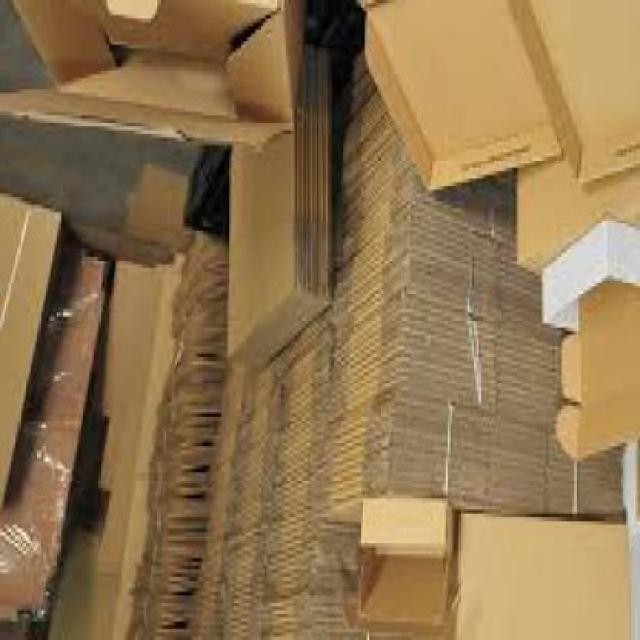CARDBOARD: (2, 5, 308, 152), (315, 398, 627, 536), (2, 246, 113, 625), (130, 238, 228, 638), (367, 3, 565, 194), (332, 52, 520, 245), (232, 49, 334, 376), (330, 294, 564, 428), (332, 223, 546, 339), (512, 3, 638, 195), (460, 514, 634, 638), (102, 264, 170, 581), (2, 197, 66, 529), (520, 155, 638, 280), (559, 287, 639, 465), (275, 320, 330, 543), (543, 218, 639, 342), (101, 264, 150, 494), (105, 4, 277, 67), (345, 554, 463, 638), (16, 4, 118, 93), (227, 4, 295, 130), (191, 538, 266, 638), (52, 532, 117, 638), (262, 535, 363, 603), (96, 261, 133, 421), (126, 164, 188, 253), (220, 361, 278, 454), (204, 458, 276, 532), (364, 503, 454, 562), (262, 591, 369, 638)
